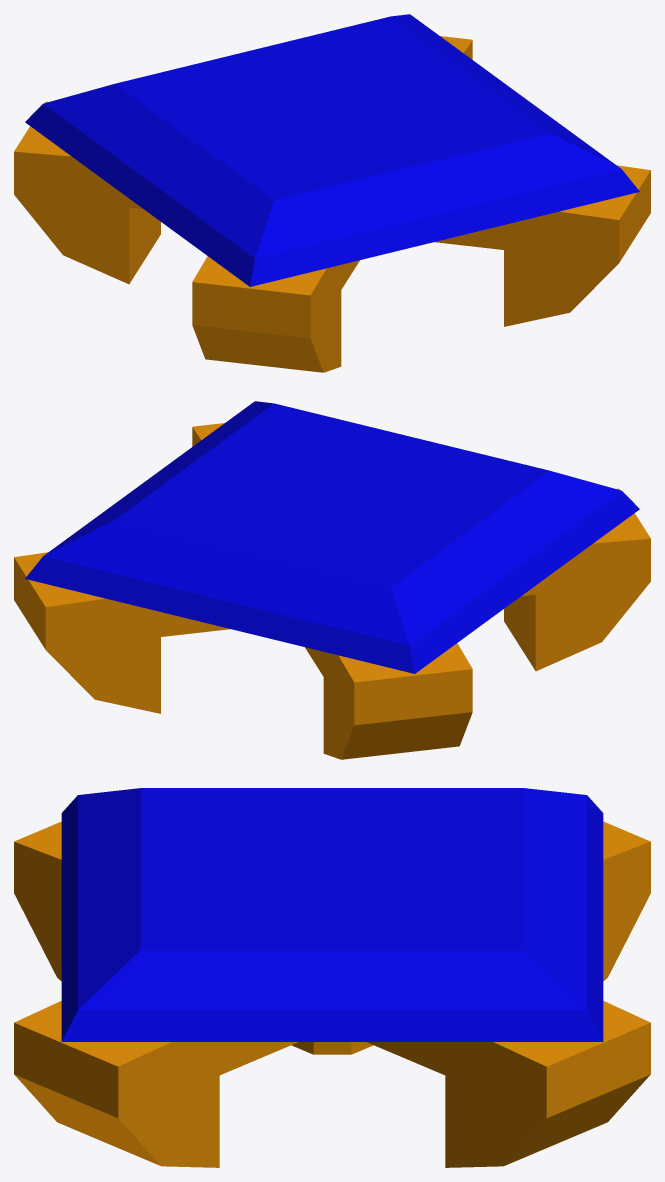
Rendered from Attachable_3.0.fbx.
3 views of the same model, one above another, from view 1: azimuth 30°, elevation 25°; view 2: azimuth 150°, elevation 25°; view 3: azimuth 270°, elevation 25° (orthographic). The views are drawn at different scales.
Parts seen in each view (by area): view 1: mesh_Attachable_3.0; view 2: mesh_Attachable_3.0; view 3: mesh_Attachable_3.0.
Part boxes in pixels (box(x1,y1,x2,y2)): mesh_Attachable_3.0: box(14, 14, 650, 372); mesh_Attachable_3.0: box(14, 401, 650, 759); mesh_Attachable_3.0: box(14, 788, 650, 1167).
Bounding box in the file's own units: 377 × 135 × 377.
